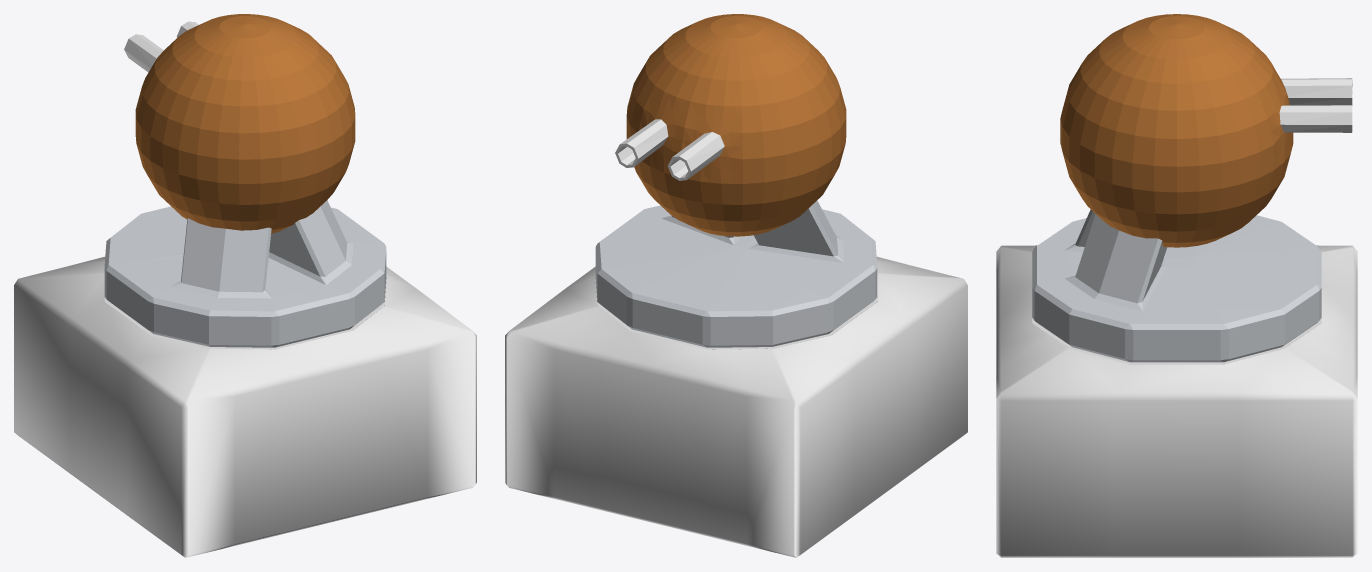
Rendered from Turret.dae.
3 views of the same model, side by side, from view 1: azimuth 30°, elevation 25°; view 2: azimuth 150°, elevation 25°; view 3: azimuth 270°, elevation 25° (orthographic). The views are drawn at different scales.
Visible parts, largest first — view 1: Base, Head, Rotator, Barrel, Door; view 2: Base, Head, Rotator, Barrel, Door; view 3: Base, Head, Rotator, Barrel, Door.
Boxes of the visible parts, x1,y1,x2,y2 form: Base: (14,256,476,557); Head: (135,14,355,233); Rotator: (104,200,386,347); Barrel: (124,21,198,72); Door: (104,280,386,349); Base: (505,256,967,557); Head: (626,14,846,236); Rotator: (595,200,877,347); Barrel: (615,119,724,180); Door: (595,280,877,349); Base: (996,245,1357,557); Head: (1060,14,1293,247); Rotator: (1032,209,1321,362); Barrel: (1279,78,1352,132); Door: (1032,318,1321,363).
Size of the model in its own units: 1.99 by 2 by 2.81.
Materials: 4 (2 with a texture image).
